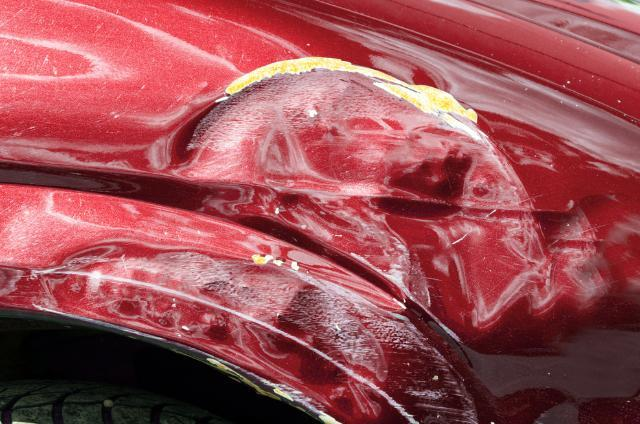Fender: (38, 45, 573, 424)
